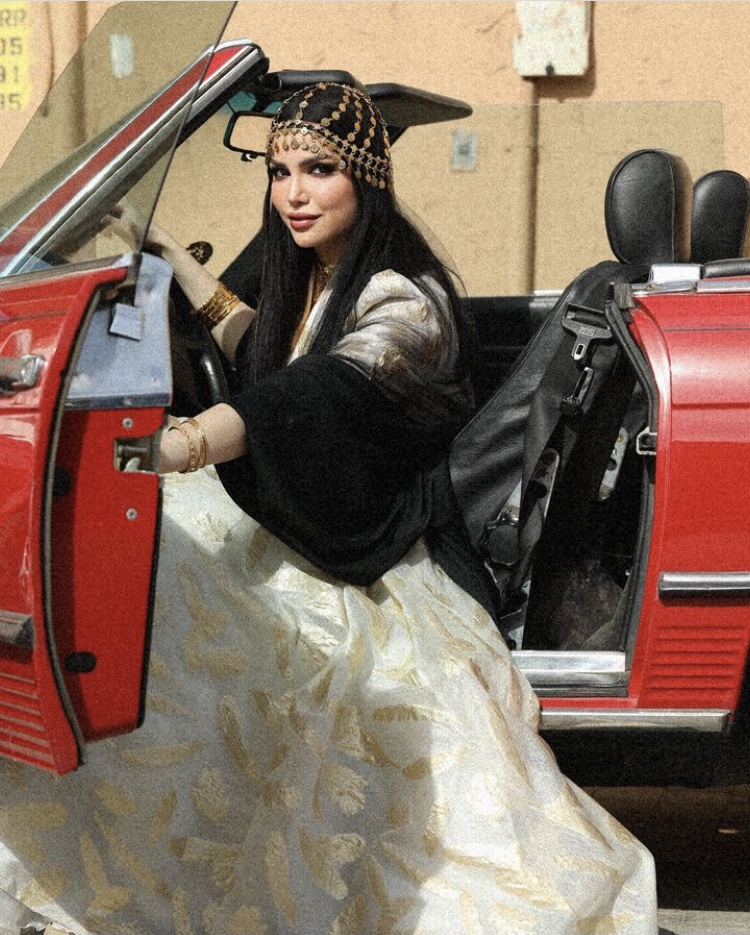Saudi_Founding_Day: (1, 78, 666, 935)
